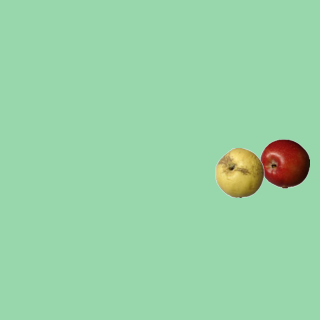Apple Braeburn: (259, 138, 309, 188)
Apple Golden 1: (214, 147, 264, 197)
